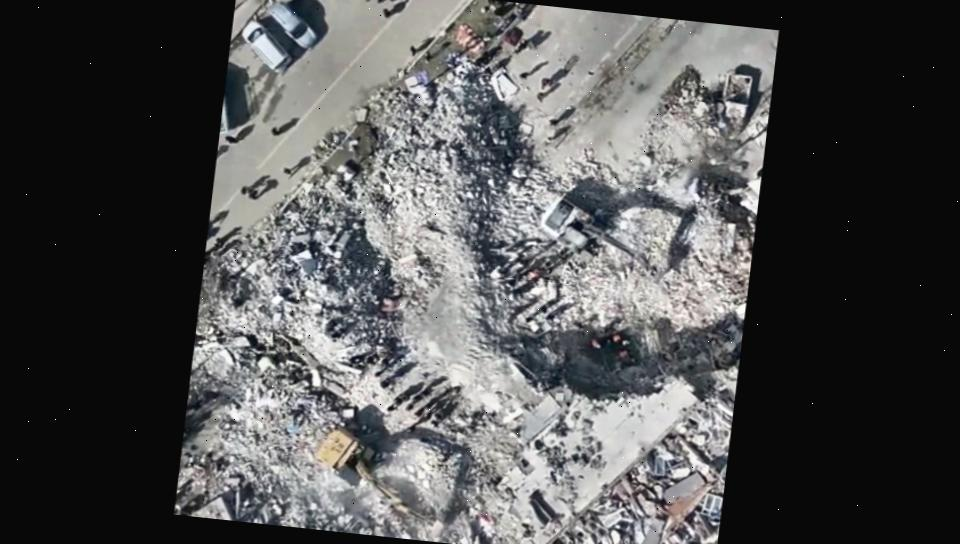kapali: (174, 7, 607, 509)
